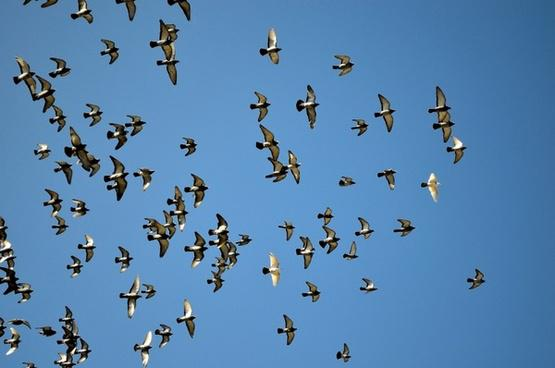bird: (253, 20, 287, 67), (270, 308, 303, 347), (325, 47, 357, 79), (460, 262, 491, 293), (373, 165, 401, 193), (388, 212, 417, 238), (329, 337, 356, 364), (329, 171, 359, 193), (174, 133, 200, 157)
